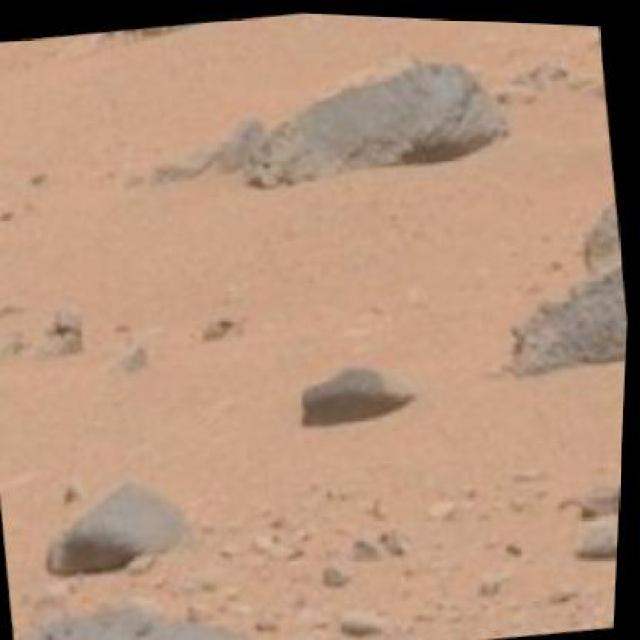rock: (232, 37, 518, 198), (490, 179, 632, 378), (37, 464, 201, 584), (16, 578, 284, 638), (123, 5, 399, 52), (300, 350, 425, 425)
